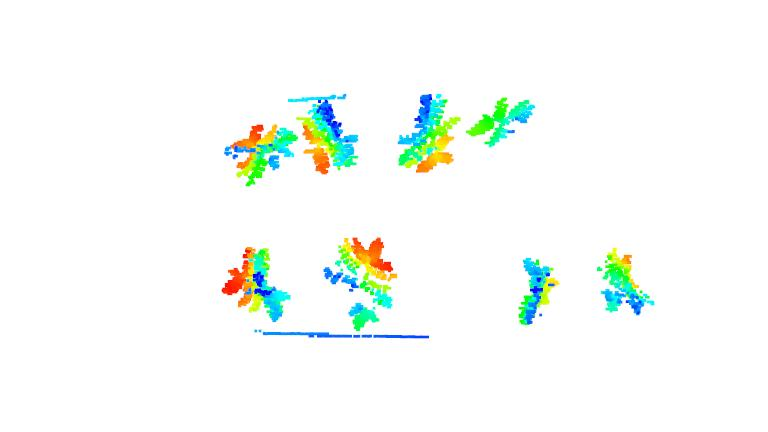chickpea: (321, 235, 399, 329), (216, 243, 292, 325), (394, 93, 458, 174), (294, 99, 361, 176), (223, 121, 299, 185), (596, 246, 656, 317), (467, 96, 539, 148), (513, 255, 560, 326)
